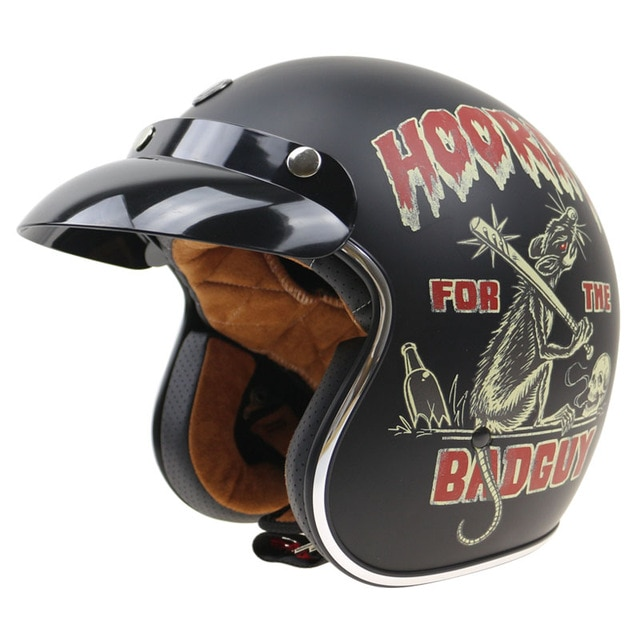with_helmet: (15, 54, 623, 575)
